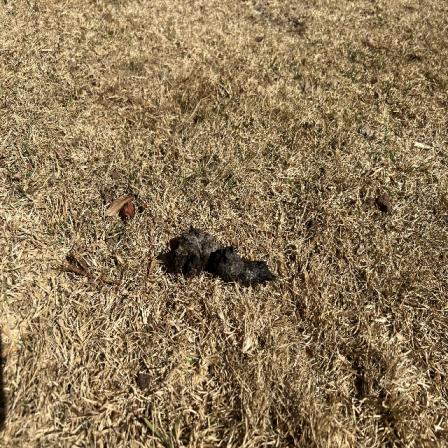dog-poop: (162, 222, 272, 288)
